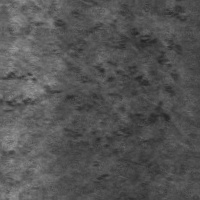rolled-in_scale: (92, 26, 185, 152), (0, 43, 68, 120)
